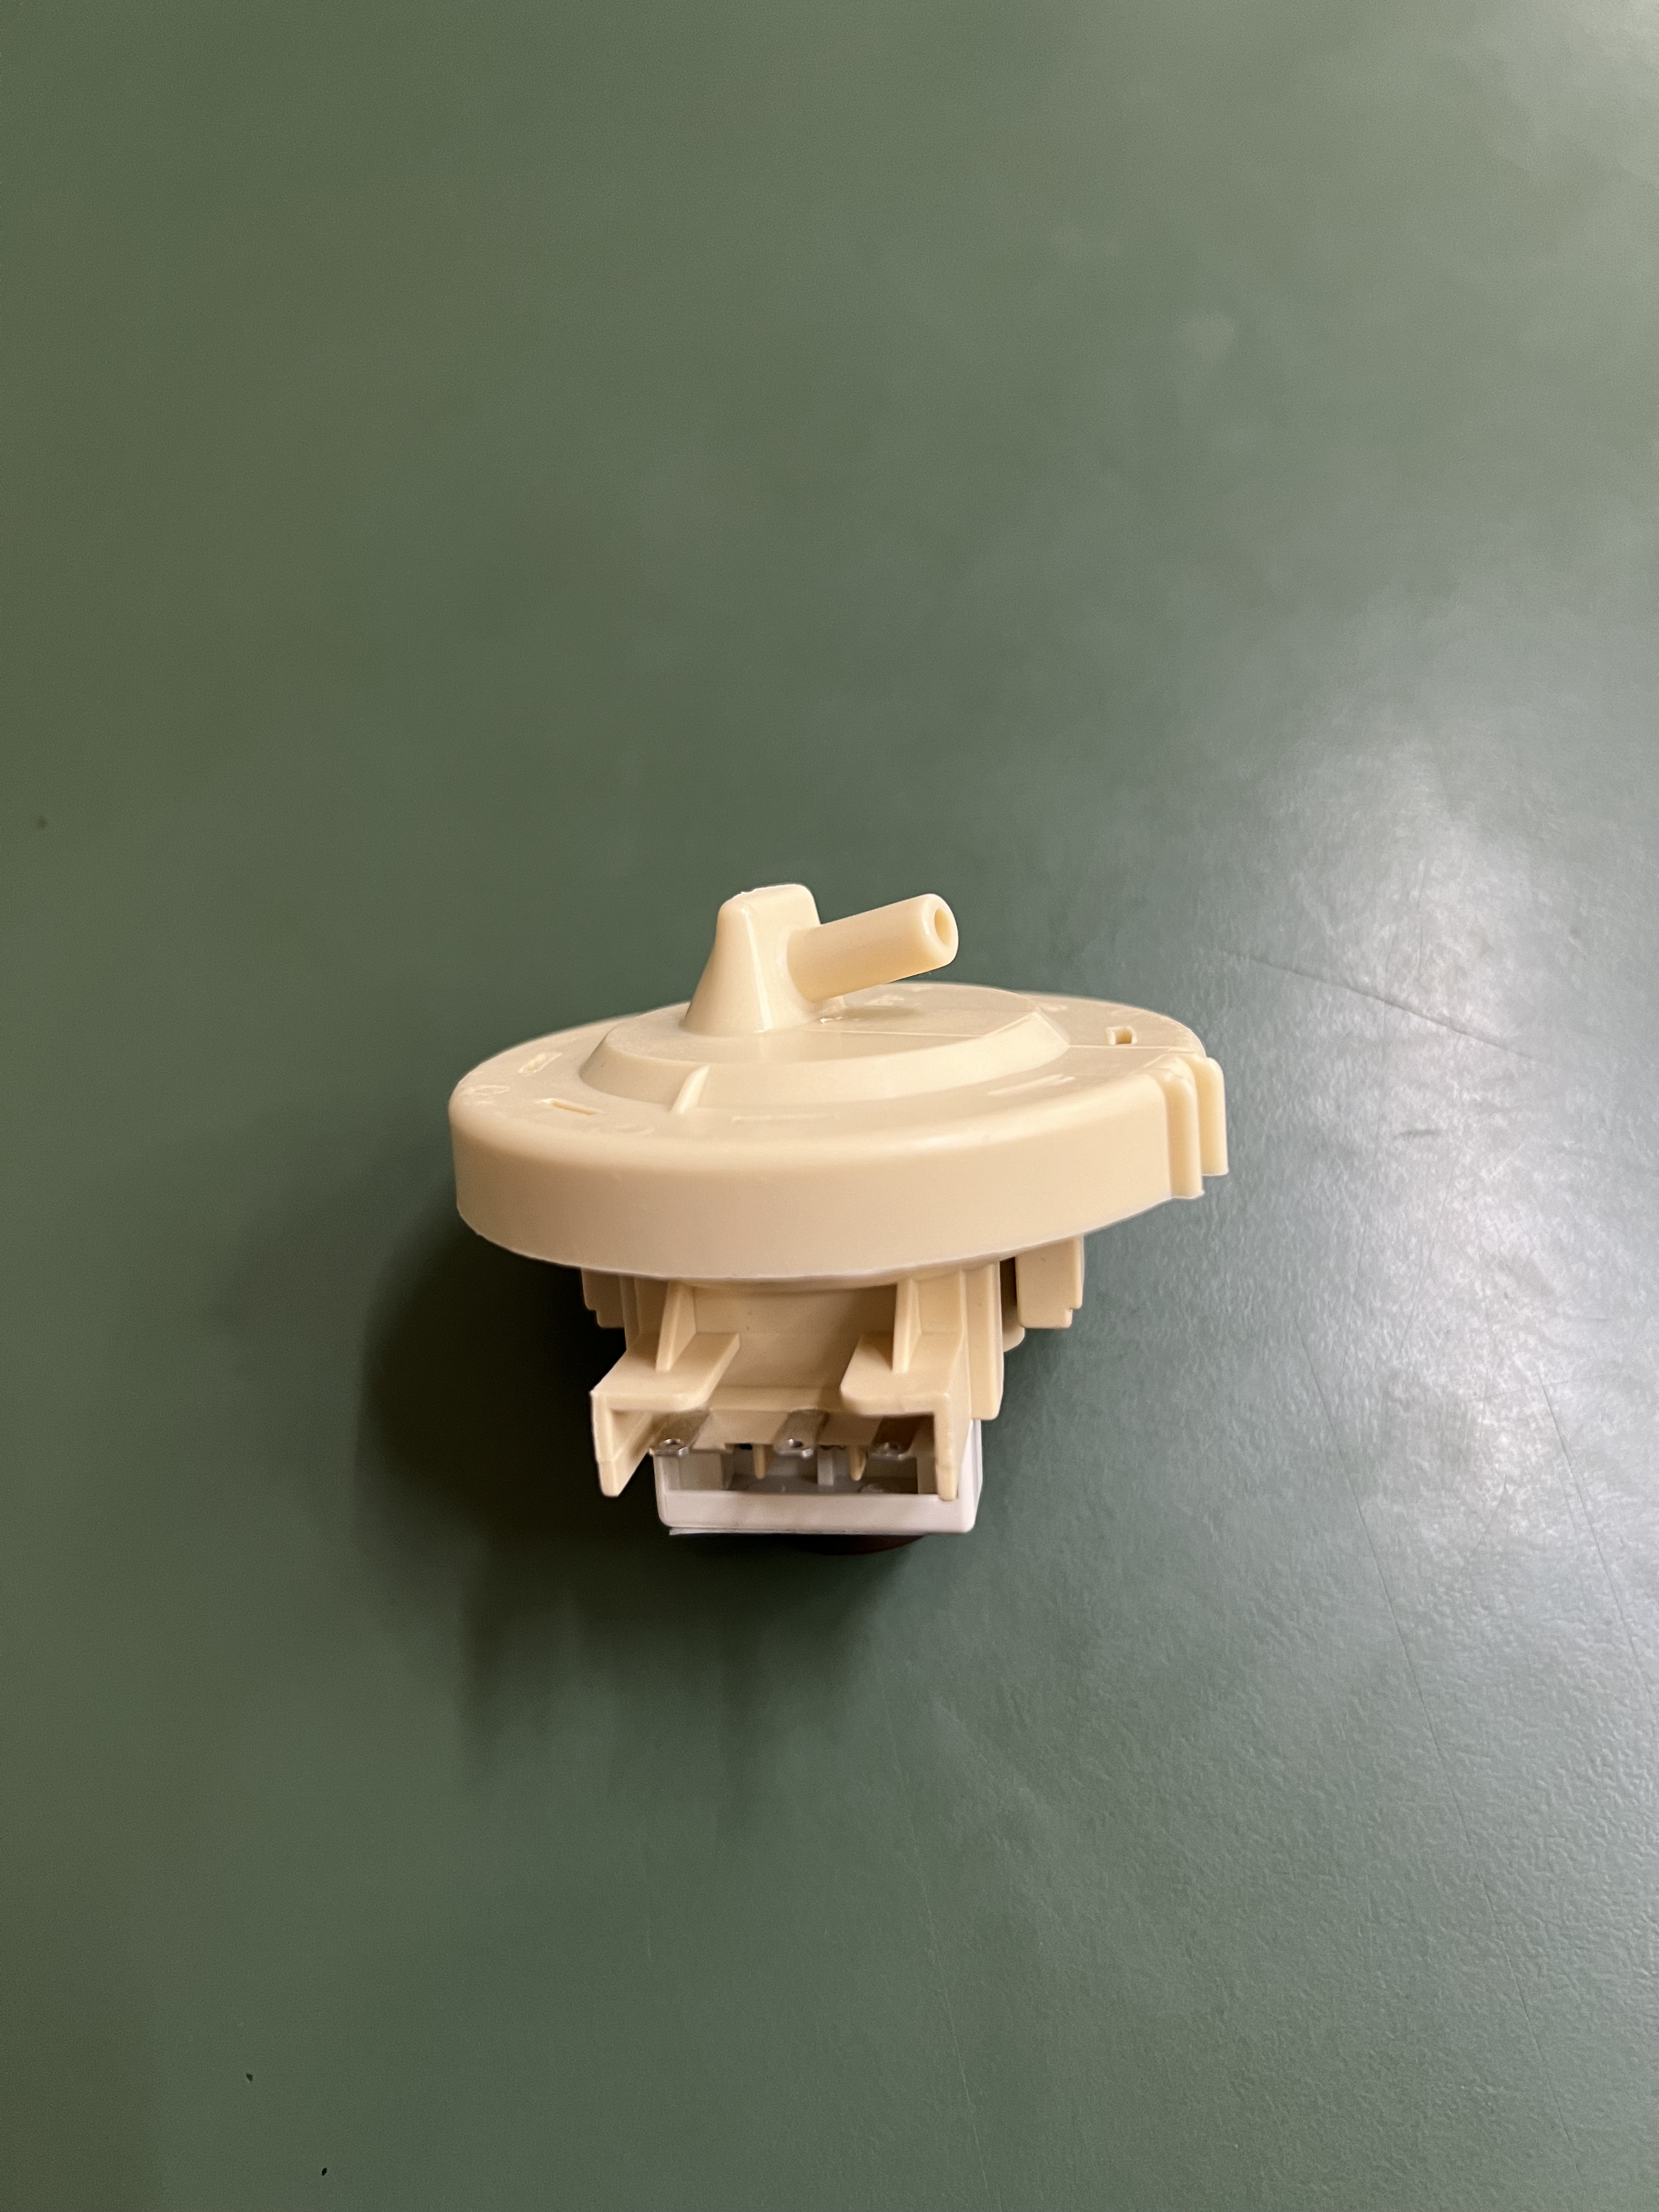pressure_sensor: (460, 867, 1241, 1606)
